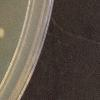yellow: (0, 27, 5, 40)
